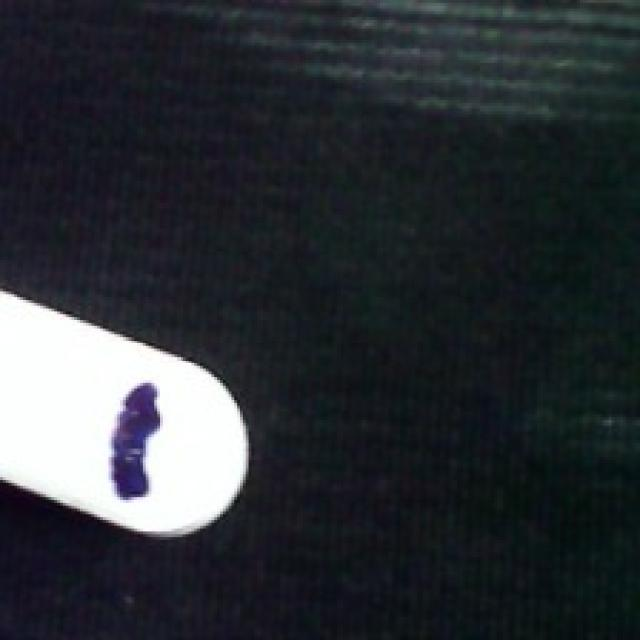defected: (0, 283, 251, 543)
